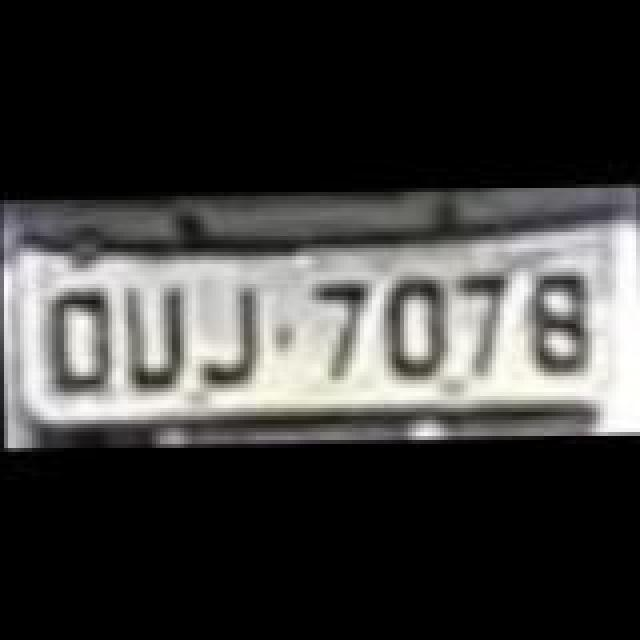7: (310, 280, 374, 388), (454, 276, 510, 384)
8: (530, 272, 594, 376)
J: (192, 282, 260, 386)
O: (48, 290, 116, 398), (388, 282, 448, 386)
U: (122, 282, 186, 390)
